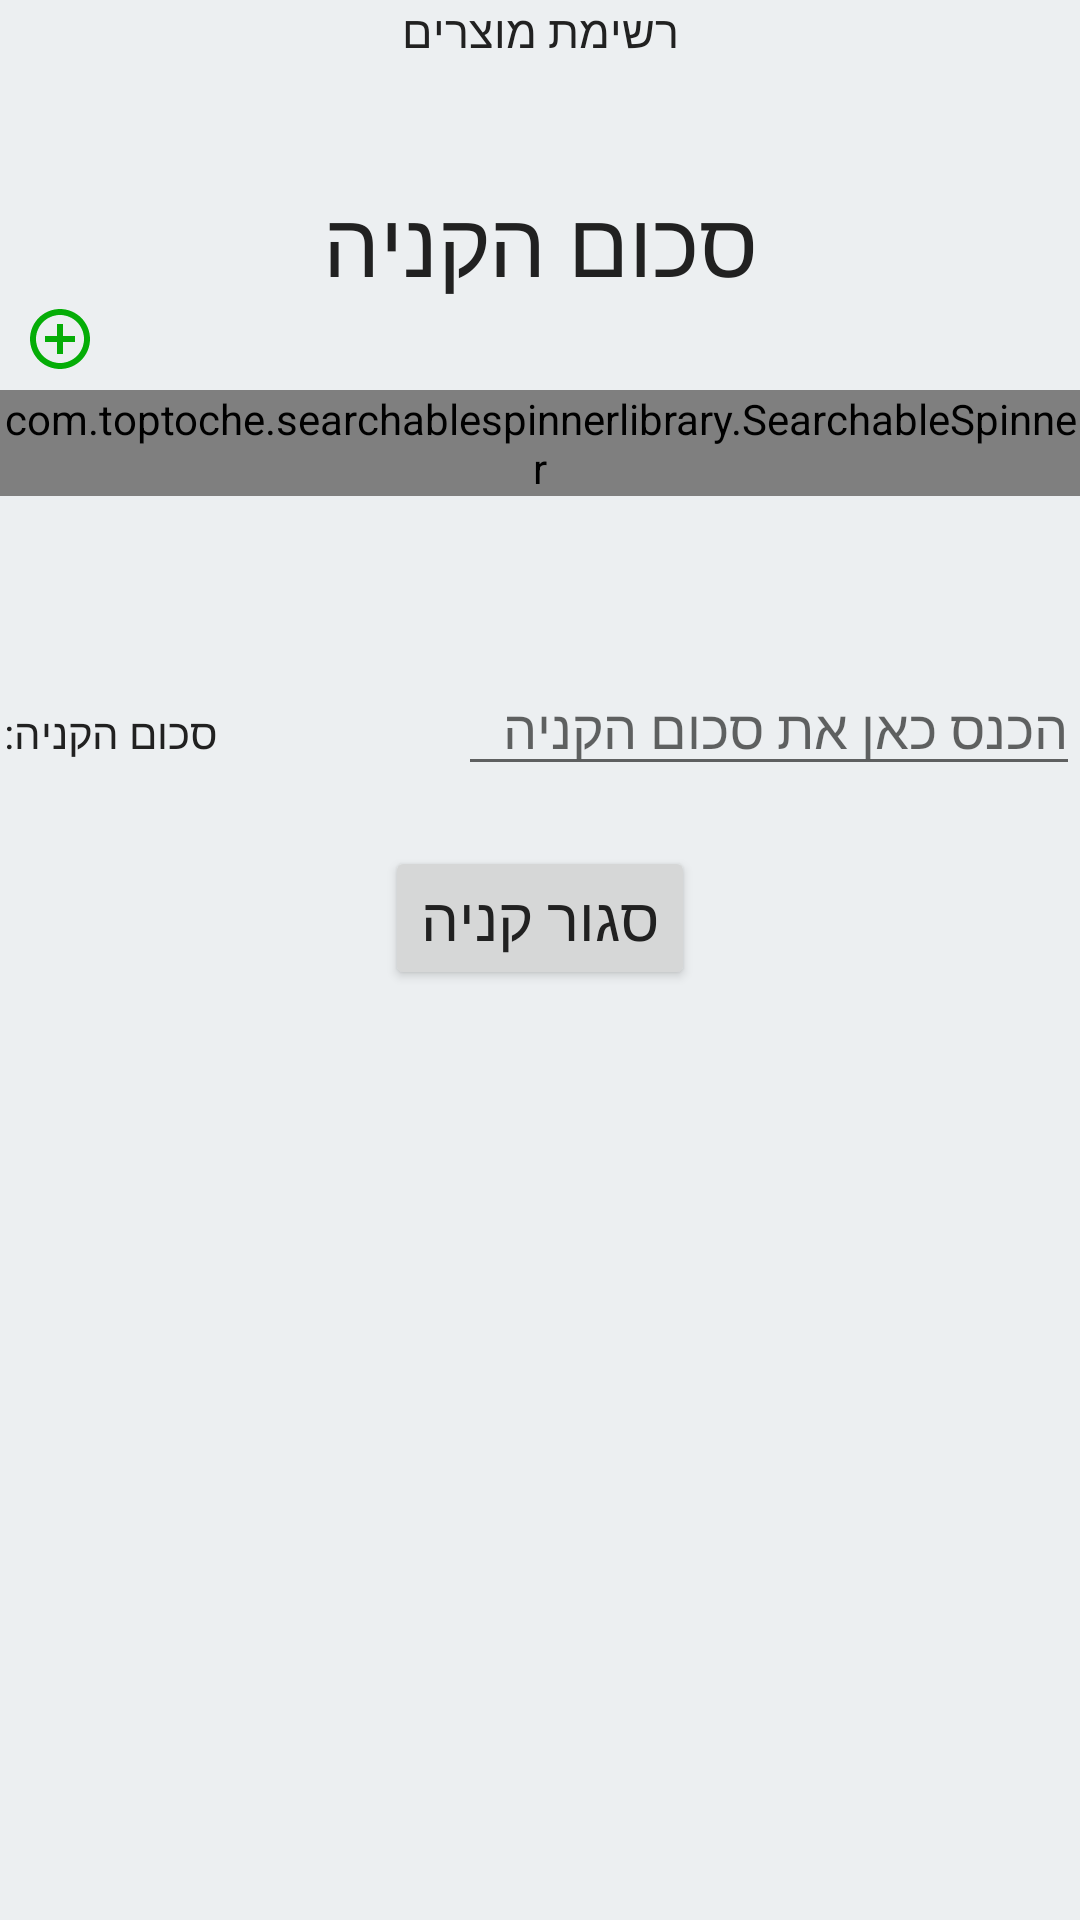

Named icons in this screenshot (1080×1920) and their bounding boxes, (x1, y1, x2, y2):
add product: (30, 309, 90, 369)
